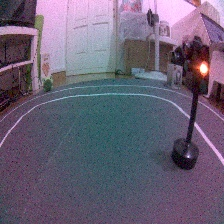amber: (173, 34, 211, 172)
